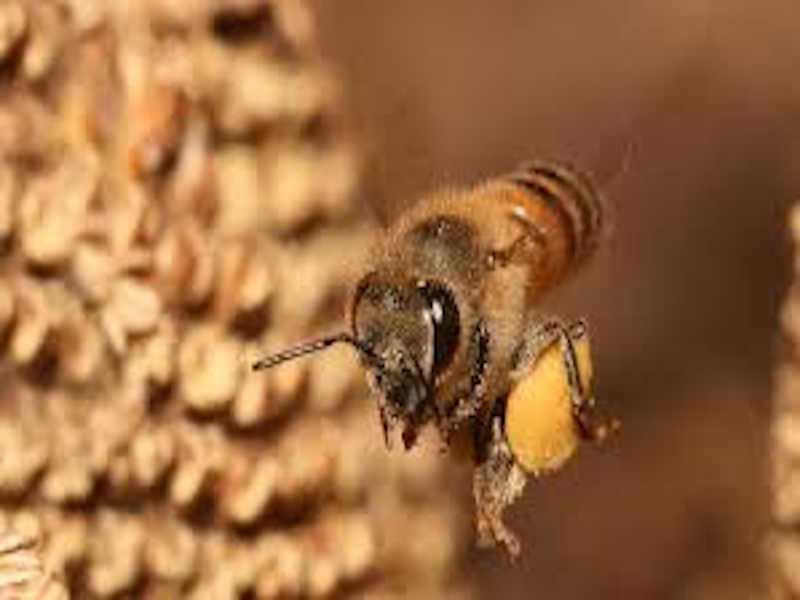abeja: (238, 137, 709, 509)
